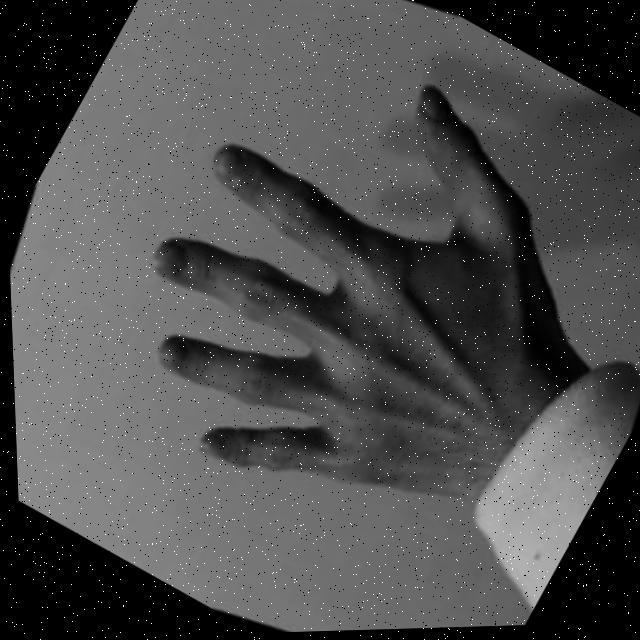hand: (65, 0, 633, 582)
